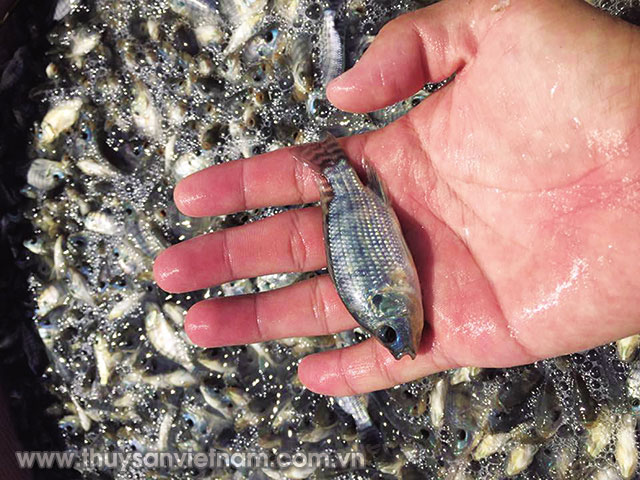fish: (300, 166, 421, 357)
